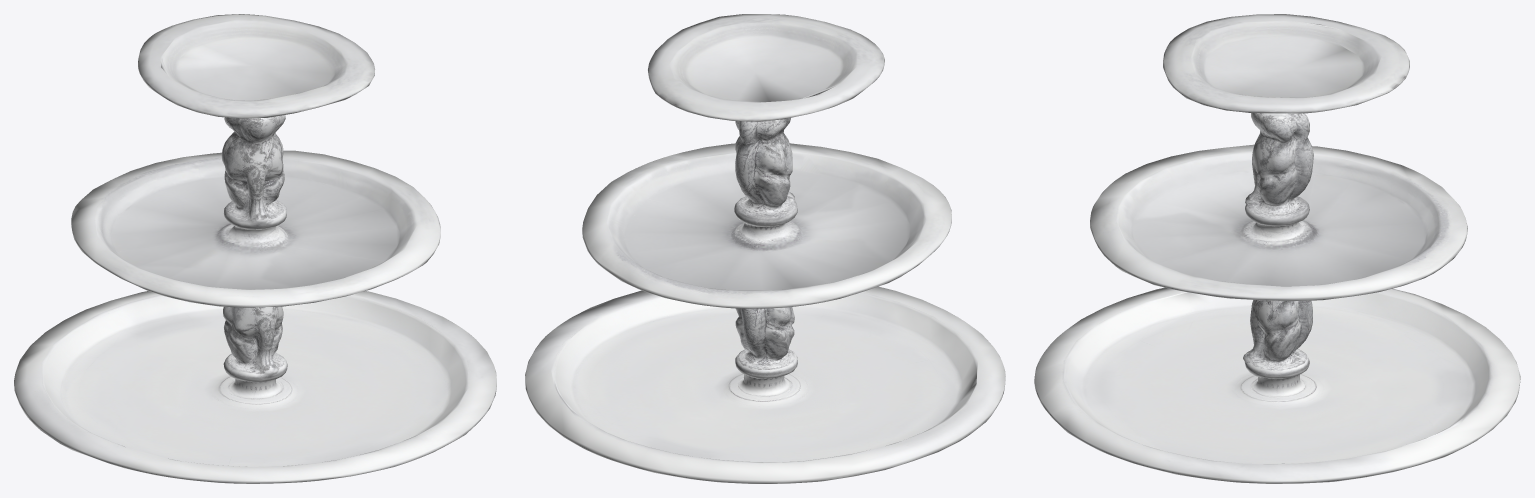
The model's file is Three_tiered_silver_cupcakeStand_24InchTall_Tabletop_0222183739_texture.glb.
3 renders of one model, left to right at view 1: azimuth 30°, elevation 25°; view 2: azimuth 150°, elevation 25°; view 3: azimuth 270°, elevation 25°, orthographic.
Visible parts, largest first — view 1: Mesh_0; view 2: Mesh_0; view 3: Mesh_0.
Part boxes in pixels (left/top/right/bottom): Mesh_0: left=14, top=14, right=496, bottom=483; Mesh_0: left=525, top=14, right=1005, bottom=483; Mesh_0: left=1034, top=14, right=1520, bottom=483.
Size of the model in its own units: 0.7922 by 0.6096 by 0.7938.
Materials: 1 (1 with a texture image).
